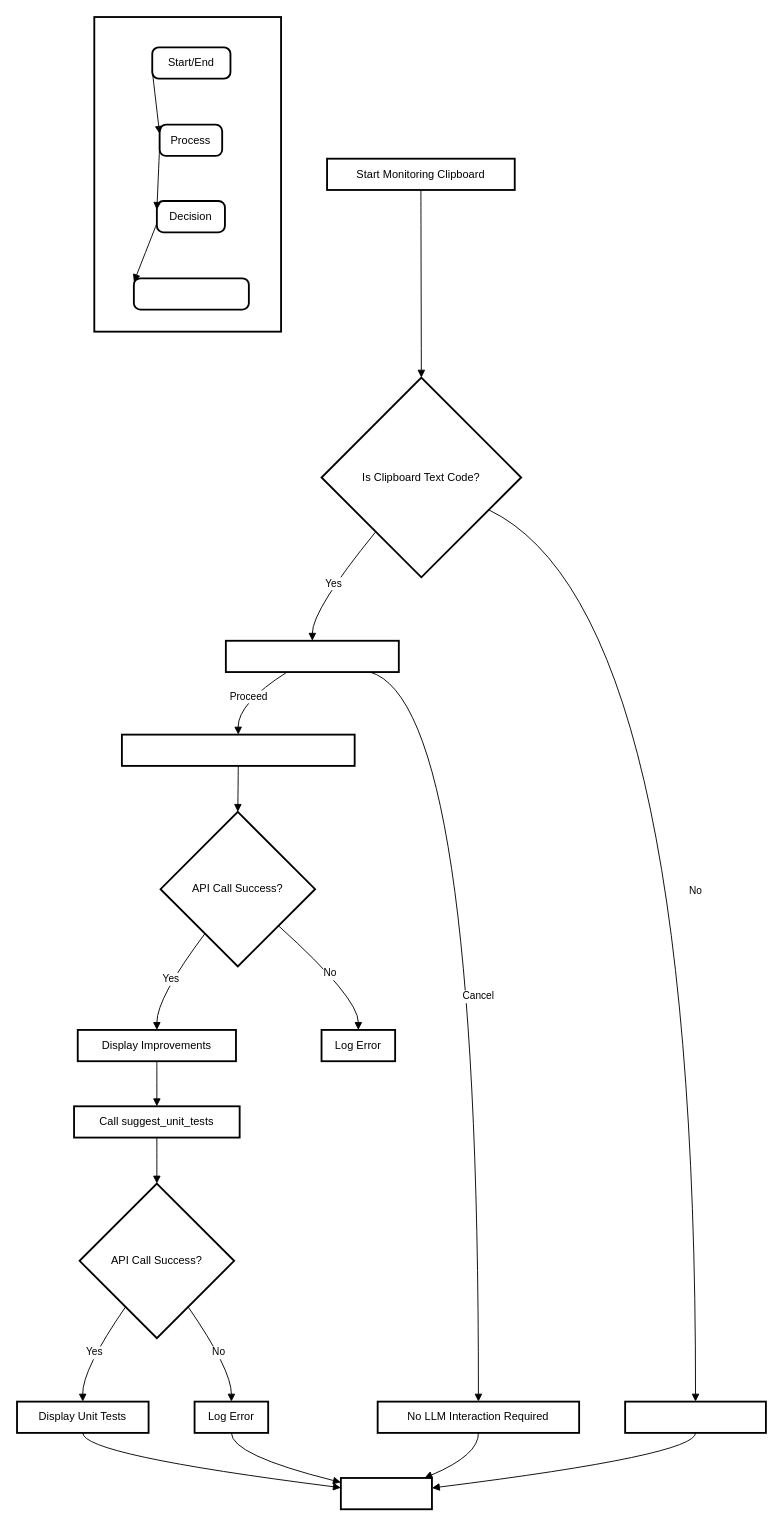
This 782x1525 diagram has some shape labels left out. The box of each missing label's shape, as (x1, y1, x2, y2) in pixels:
Call suggest_code_improvements: (121, 733, 355, 766)
Confirm LLM Interaction: (224, 639, 399, 673)
End Process: (339, 1477, 432, 1510)
External Action: (132, 277, 249, 310)
Legend: (93, 16, 282, 332)
No Action Required: (624, 1400, 766, 1433)
